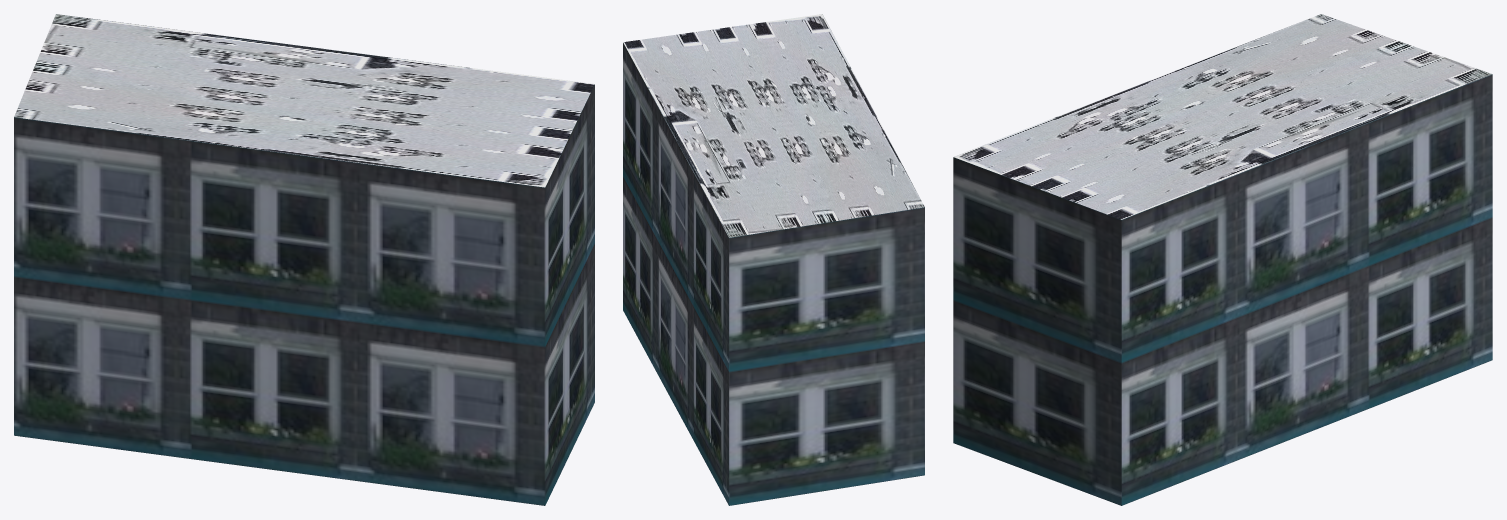
Rendered from ResTex__1287.fbx.
The picture shows the model from 3 angles, left to right: view 1: azimuth 30°, elevation 25°; view 2: azimuth 150°, elevation 25°; view 3: azimuth 270°, elevation 25°; orthographic projection. The views are drawn at different scales.
Parts seen in each view (by area): view 1: CityEngineMaterial_11_m, CityEngineMaterial_m; view 2: CityEngineMaterial_11_m, CityEngineMaterial_m; view 3: CityEngineMaterial_11_m, CityEngineMaterial_m.
Boxes of the visible parts, x1,y1,x2,y2 form: CityEngineMaterial_11_m: [14, 84, 594, 505]; CityEngineMaterial_m: [14, 14, 594, 187]; CityEngineMaterial_11_m: [623, 43, 924, 505]; CityEngineMaterial_m: [623, 14, 924, 237]; CityEngineMaterial_11_m: [953, 74, 1492, 505]; CityEngineMaterial_m: [953, 14, 1492, 219].
Bounding box in the file's own units: 9.26 × 6 × 10.25.
Materials: 2 (2 with a texture image).
